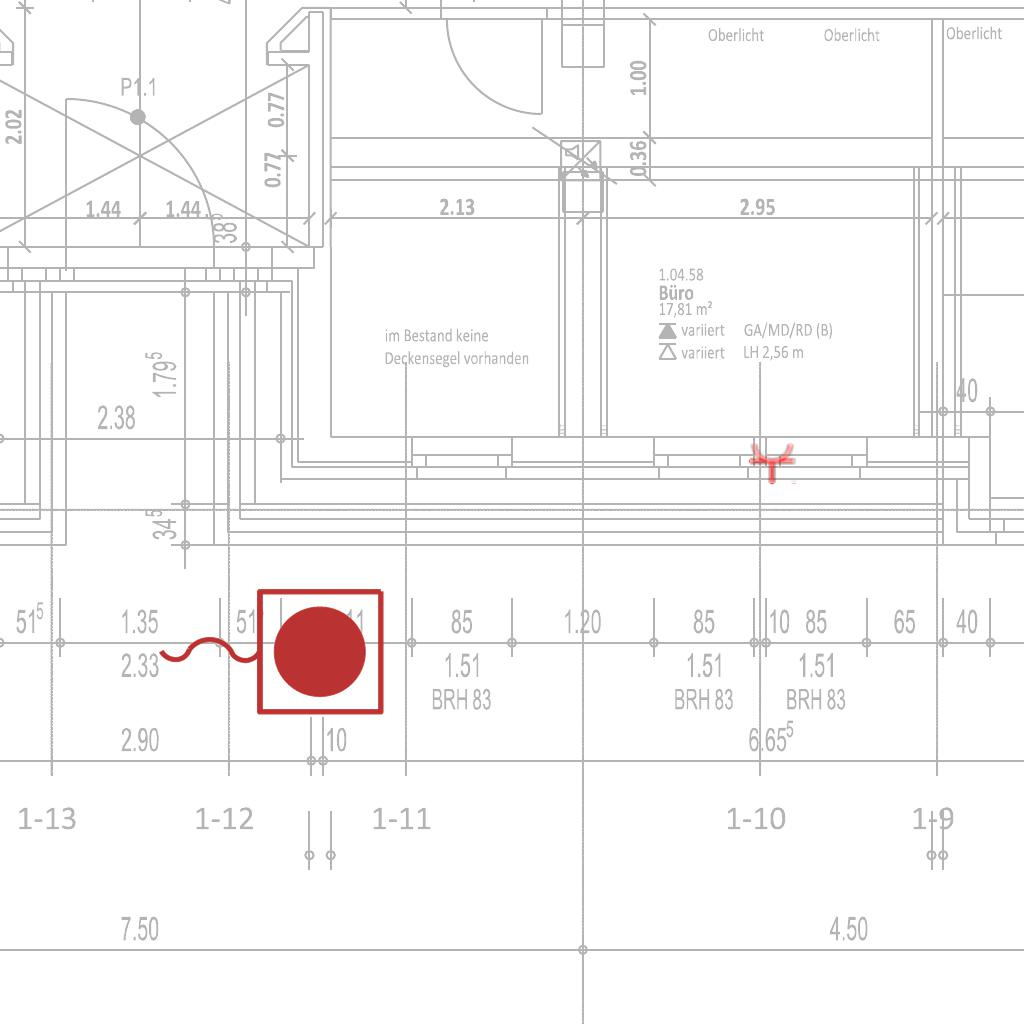Schukosteckdose_einfach: (748, 442, 798, 485)
Zugtaster: (148, 578, 392, 722)
